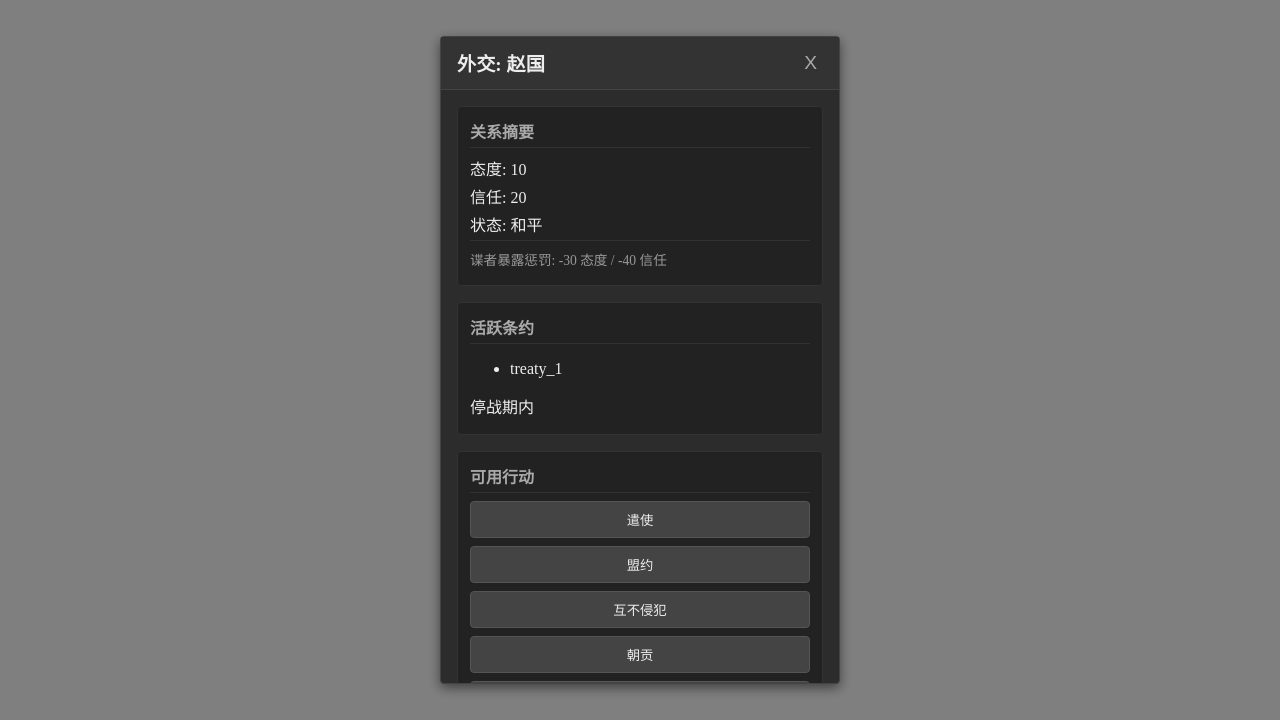
DiplomacyPanel › maps truce rejection to localized player-facing copy
What coordinates should you click on to do the following:
click the button with test id "diplomacy-action-alliance"
I would click on:
 (640, 564)
Its box is [470,546,810,583].
(page scrolled)
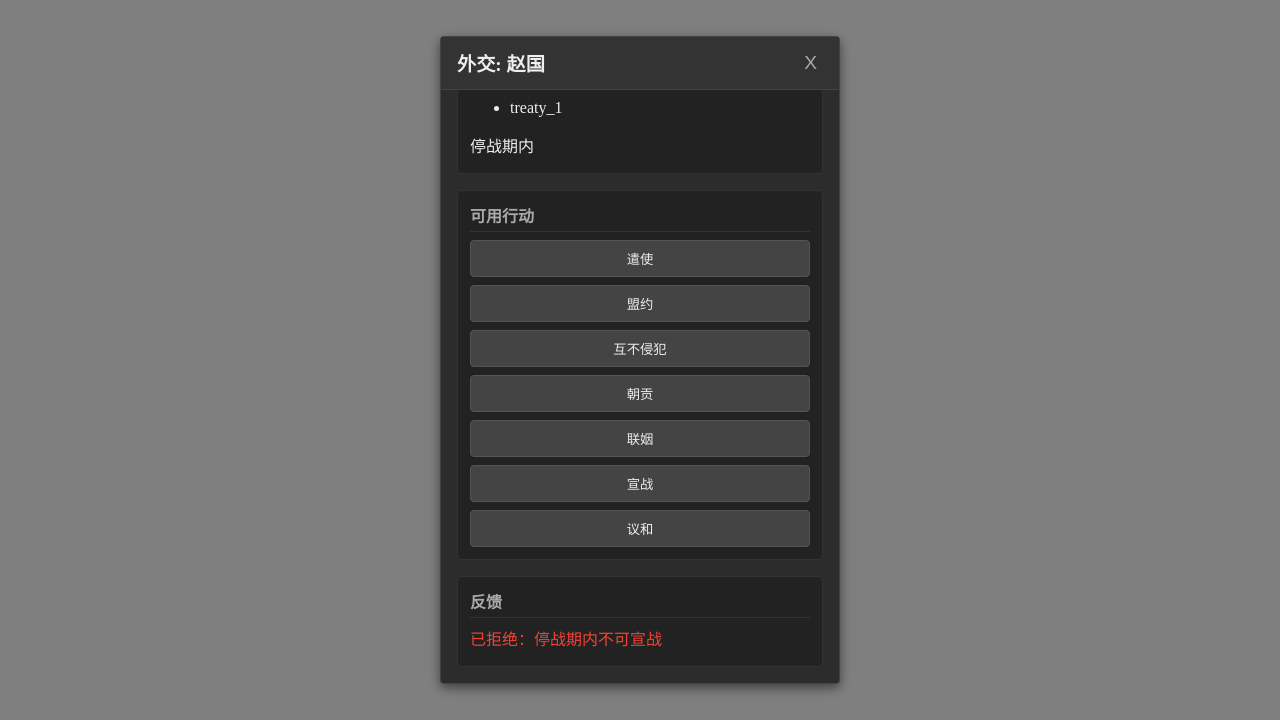
Result: the element with test id "diplomacy-feedback" shows "已拒绝：停战期内不可宣战" at [470,631,662,648]
